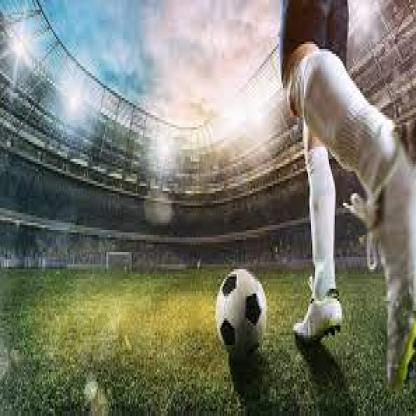ball: (216, 268, 267, 361)
